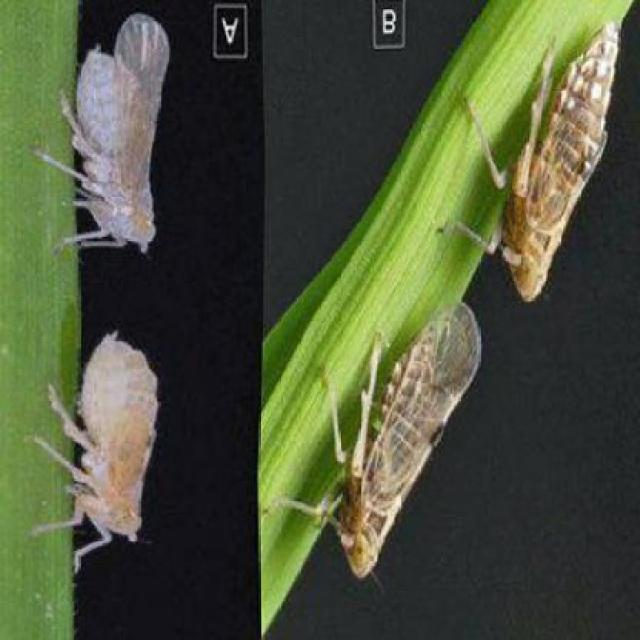brown-planthopper: (289, 297, 488, 575), (501, 22, 628, 304), (58, 21, 168, 253), (62, 330, 166, 564)
